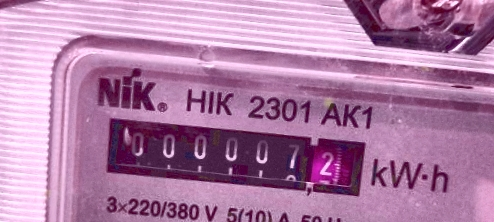0: (127, 128, 147, 157), (190, 131, 209, 161), (221, 134, 241, 162), (159, 130, 178, 159), (252, 137, 271, 166)
2: (317, 149, 336, 177)
7: (283, 139, 302, 171)
screen: (91, 103, 378, 209)
